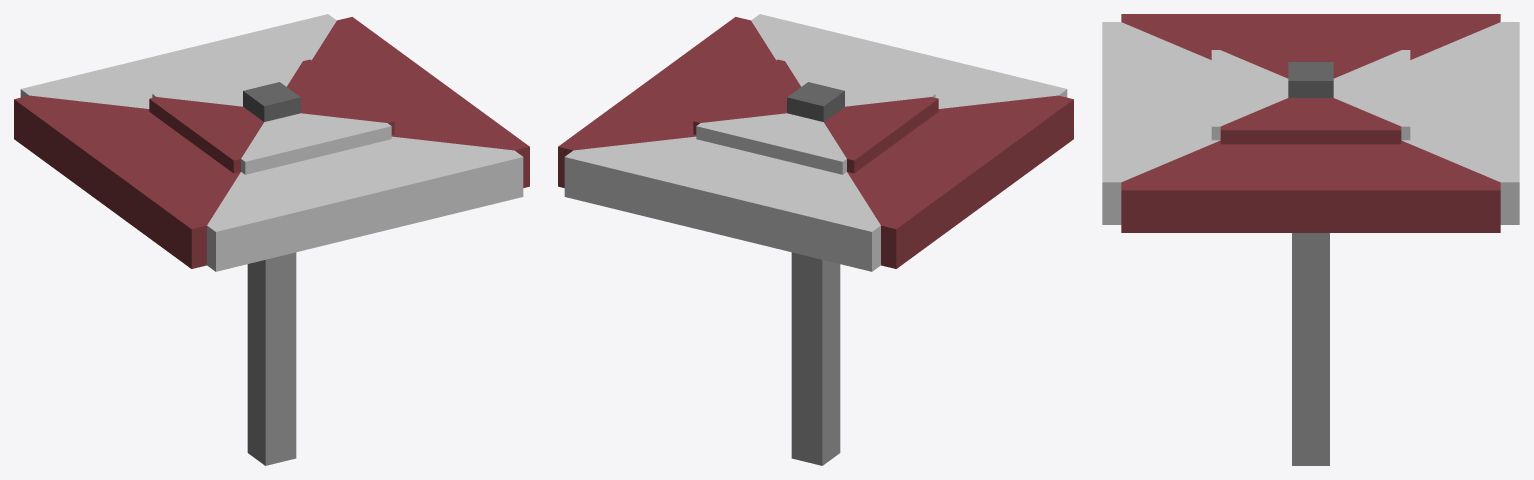
File: Beach_Umbrella.fbx
The picture shows the model from 3 angles, left to right: view 1: azimuth 30°, elevation 25°; view 2: azimuth 150°, elevation 25°; view 3: azimuth 270°, elevation 25°; orthographic projection. The views are drawn at different scales.
Parts seen in each view (by area): view 1: Umbrella_Top, Umbrella_Pole; view 2: Umbrella_Top, Umbrella_Pole; view 3: Umbrella_Top, Umbrella_Pole.
Boxes of the visible parts, x1=… form: Umbrella_Top: x1=14, y1=14, x2=529, y2=271; Umbrella_Pole: x1=247, y1=252, x2=296, y2=465; Umbrella_Top: x1=558, y1=14, x2=1073, y2=271; Umbrella_Pole: x1=791, y1=252, x2=840, y2=465; Umbrella_Top: x1=1102, y1=14, x2=1519, y2=232; Umbrella_Pole: x1=1292, y1=233, x2=1329, y2=465.
Size of the model in its own units: 4.4 by 4.49 by 4.4.
